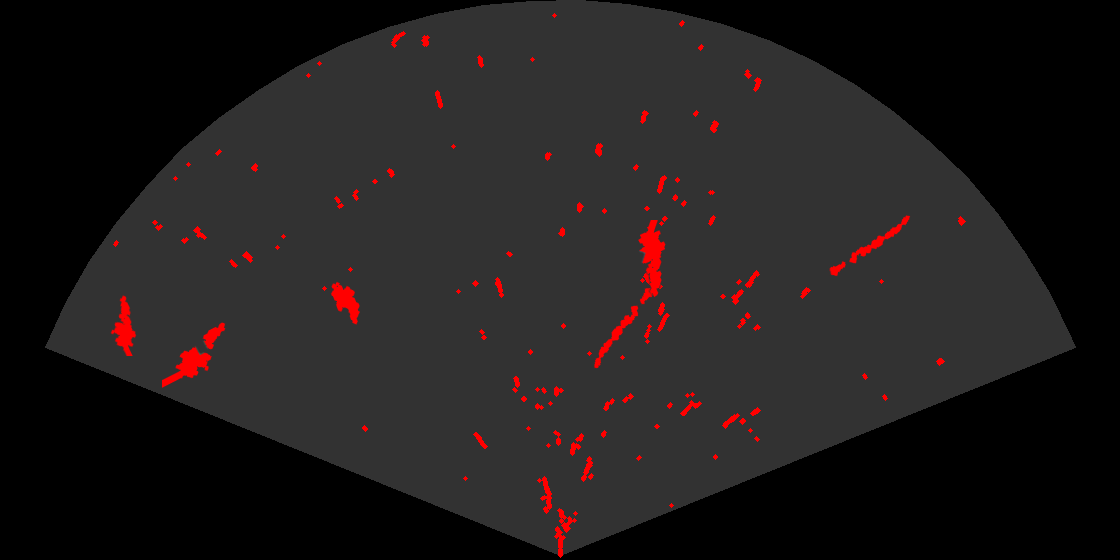AUV: (329, 280, 361, 326)
chain: (828, 214, 912, 278), (593, 286, 656, 370)
frogman: (162, 321, 227, 389), (637, 220, 667, 299), (109, 294, 138, 356)
